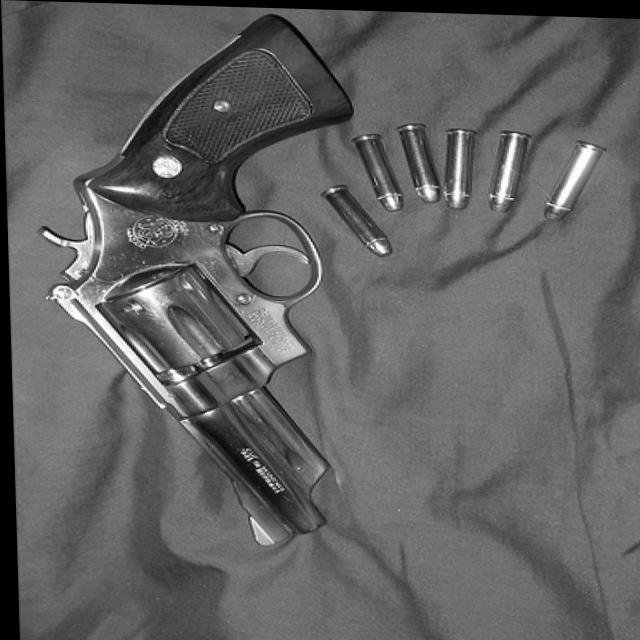handgun: (29, 3, 354, 546)
